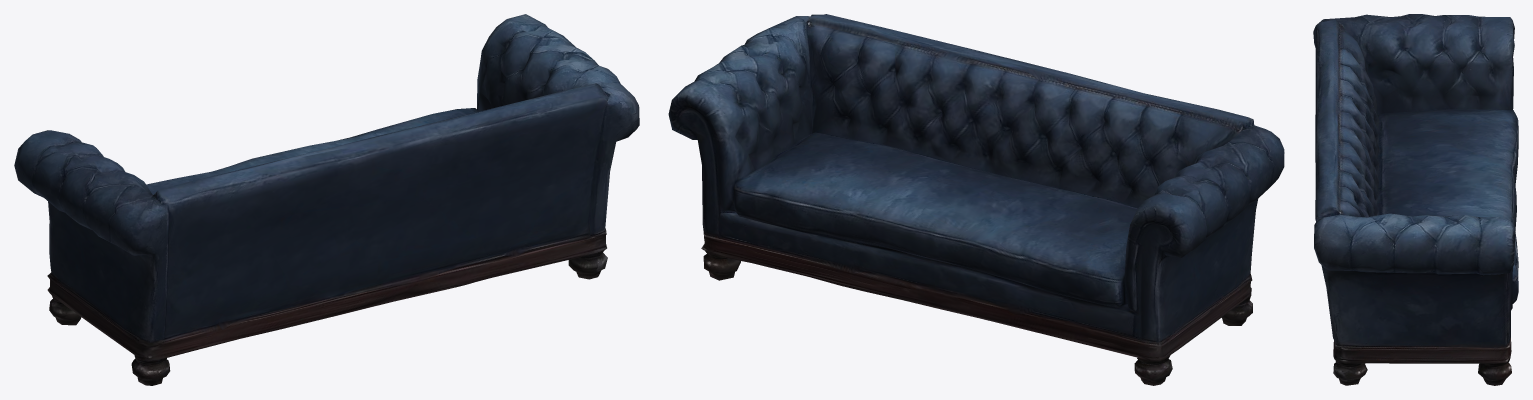
File: parlor_sofa_tufted.glb
3 views of the same model, side by side, from view 1: azimuth 30°, elevation 25°; view 2: azimuth 150°, elevation 25°; view 3: azimuth 270°, elevation 25° (orthographic). The views are drawn at different scales.
Visible parts, largest first — view 1: tripo_node_97801027-ae2e-4315-b413-49c5fb504a8c; view 2: tripo_node_97801027-ae2e-4315-b413-49c5fb504a8c; view 3: tripo_node_97801027-ae2e-4315-b413-49c5fb504a8c.
Part boxes in pixels (left/top/right/bottom): tripo_node_97801027-ae2e-4315-b413-49c5fb504a8c: left=14, top=14, right=639, bottom=385; tripo_node_97801027-ae2e-4315-b413-49c5fb504a8c: left=668, top=14, right=1284, bottom=385; tripo_node_97801027-ae2e-4315-b413-49c5fb504a8c: left=1313, top=14, right=1518, bottom=385.
Bounding box in the file's own units: 1 × 0.3562 × 0.3792.
Materials: 1 (1 with a texture image).
